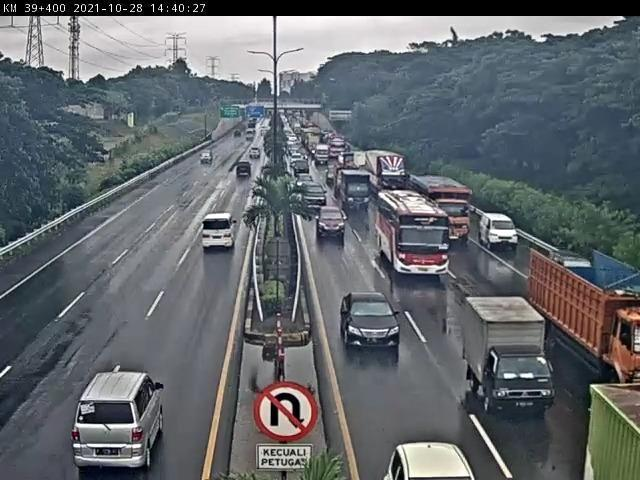bus: (376, 188, 447, 274)
car: (72, 376, 168, 470), (342, 292, 405, 352), (204, 210, 243, 249), (479, 214, 519, 249), (316, 206, 347, 240), (305, 185, 327, 206), (234, 167, 253, 183)
truck: (529, 250, 640, 364), (462, 298, 552, 412), (413, 169, 475, 238), (340, 169, 375, 214)
